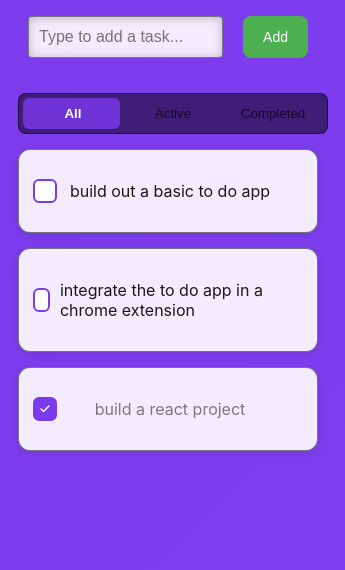
it: TodoList › adds a new task
Type "New task" into the field with placeholder "Type to add a task..." at {"x": 126, "y": 37}, box top-left (28, 16), bottom-right (223, 58)
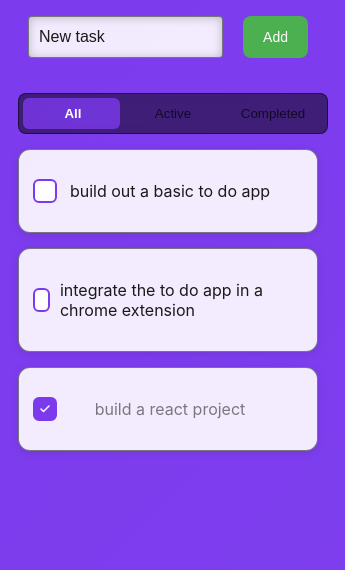
Click the button "Add" at {"x": 276, "y": 37}, box top-left (243, 16), bottom-right (308, 58)
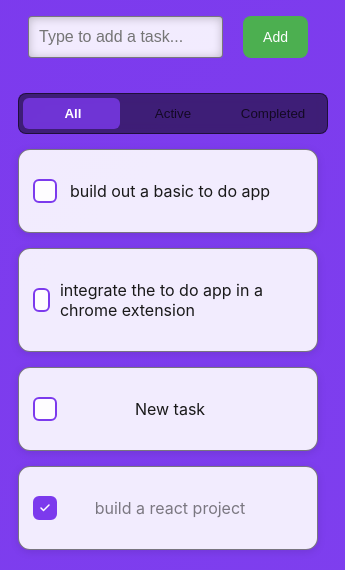
Expected: the text "New task" is shown, top-left (135, 399), bottom-right (205, 419)
